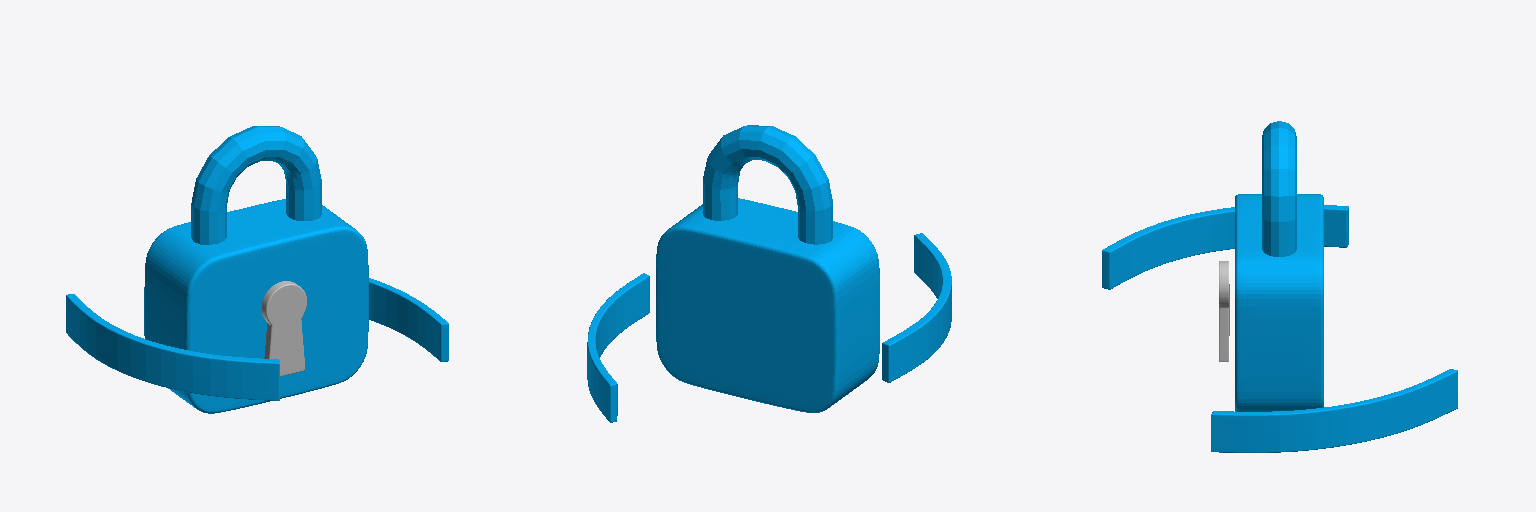
The model's file is safe1.obj.
The picture shows the model from 3 angles: view 1: azimuth 30°, elevation 25°; view 2: azimuth 150°, elevation 25°; view 3: azimuth 270°, elevation 25°; orthographic projection.
Visible parts, largest first — view 1: 立方体, 圆环, 圆环.004, 圆环.001, 圆环.003; view 2: 立方体, 圆环.004, 圆环, 圆环.001; view 3: 立方体, 圆环.001, 圆环, 圆环.004, 圆环.003.
Boxes of the visible parts, box(x1,y1,x2,y2) form: 立方体: box(144, 199, 368, 413); 圆环: box(66, 294, 279, 400); 圆环.004: box(191, 126, 321, 244); 圆环.001: box(369, 278, 448, 361); 圆环.003: box(261, 281, 306, 376); 立方体: box(656, 198, 879, 412); 圆环.004: box(703, 125, 832, 244); 圆环: box(882, 233, 951, 382); 圆环.001: box(587, 273, 649, 422); 立方体: box(1235, 194, 1323, 411); 圆环.001: box(1211, 369, 1457, 452); 圆环: box(1102, 205, 1348, 289); 圆环.004: box(1262, 121, 1296, 256); 圆环.003: box(1219, 261, 1229, 361).
Bounding box in the file's own units: 3.08 × 2.36 × 2.96.